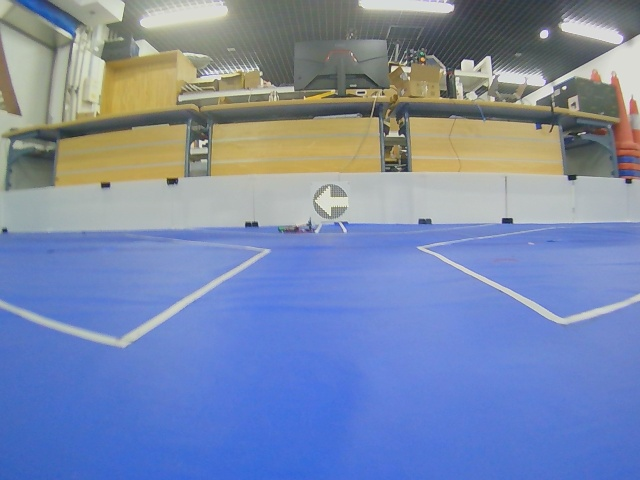left_yellow: (314, 184, 349, 219)
